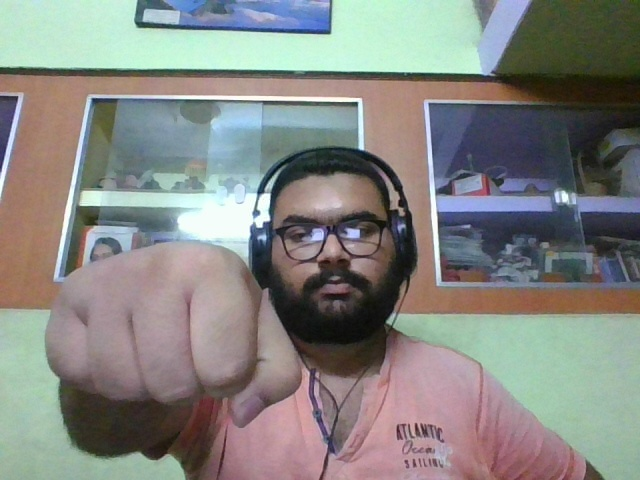yes: (44, 238, 301, 428)
